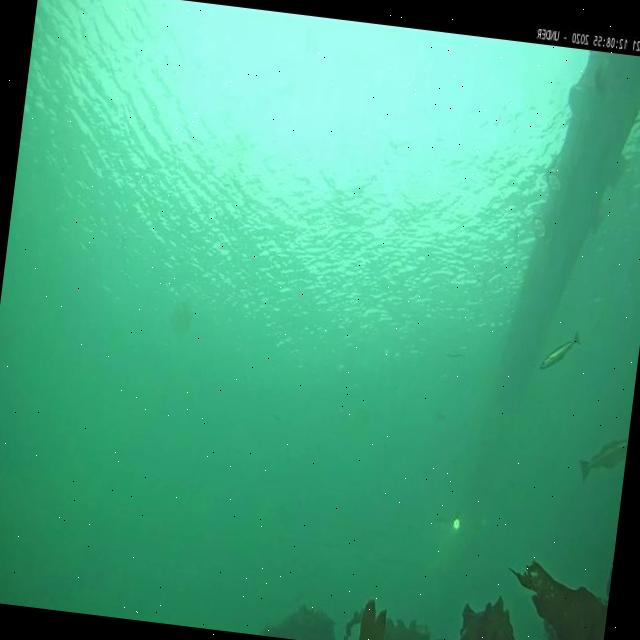fish: (578, 432, 628, 484), (538, 328, 582, 372)
